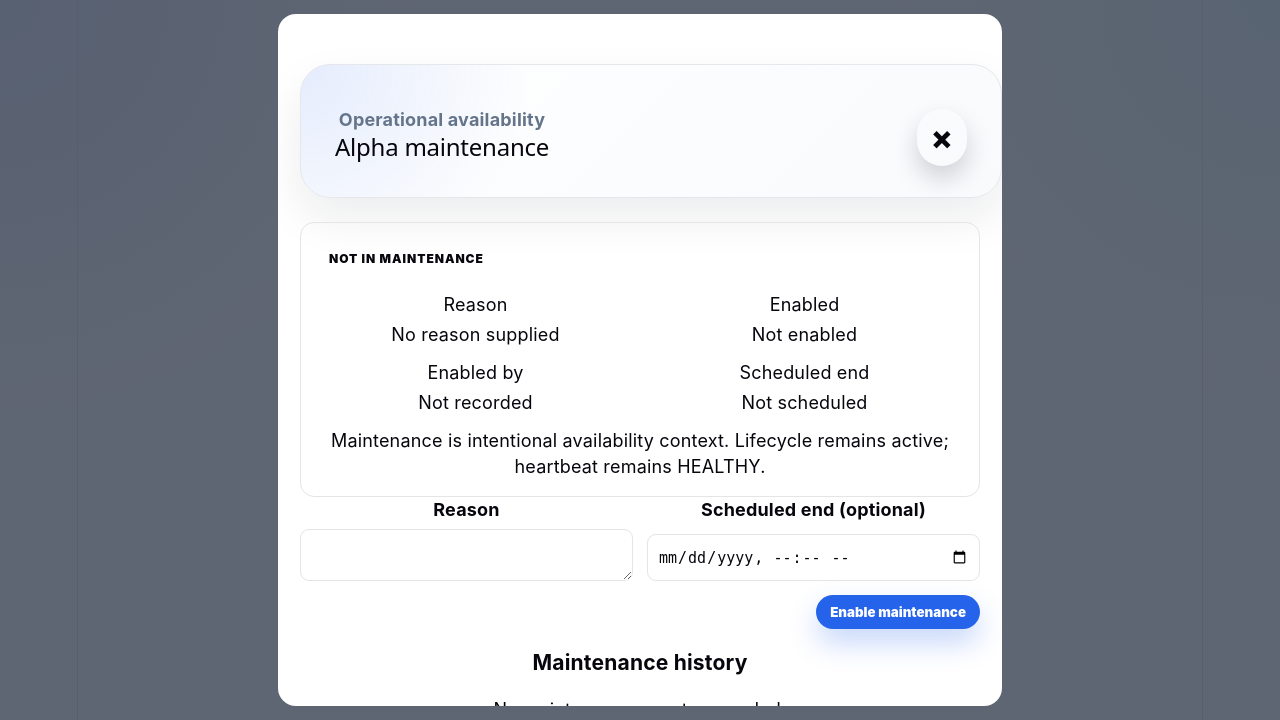
it: DeviceMaintenanceDialog › validates a past scheduled end without making a request
The width and height of the screenshot is (1280, 720).
expect the button "Enable maintenance" is shown: met, box [816,595,980,629]
Type "2020-01-01T10:00" into the field named "Scheduled maintenance end" at (814, 558), box [647,534,980,581]
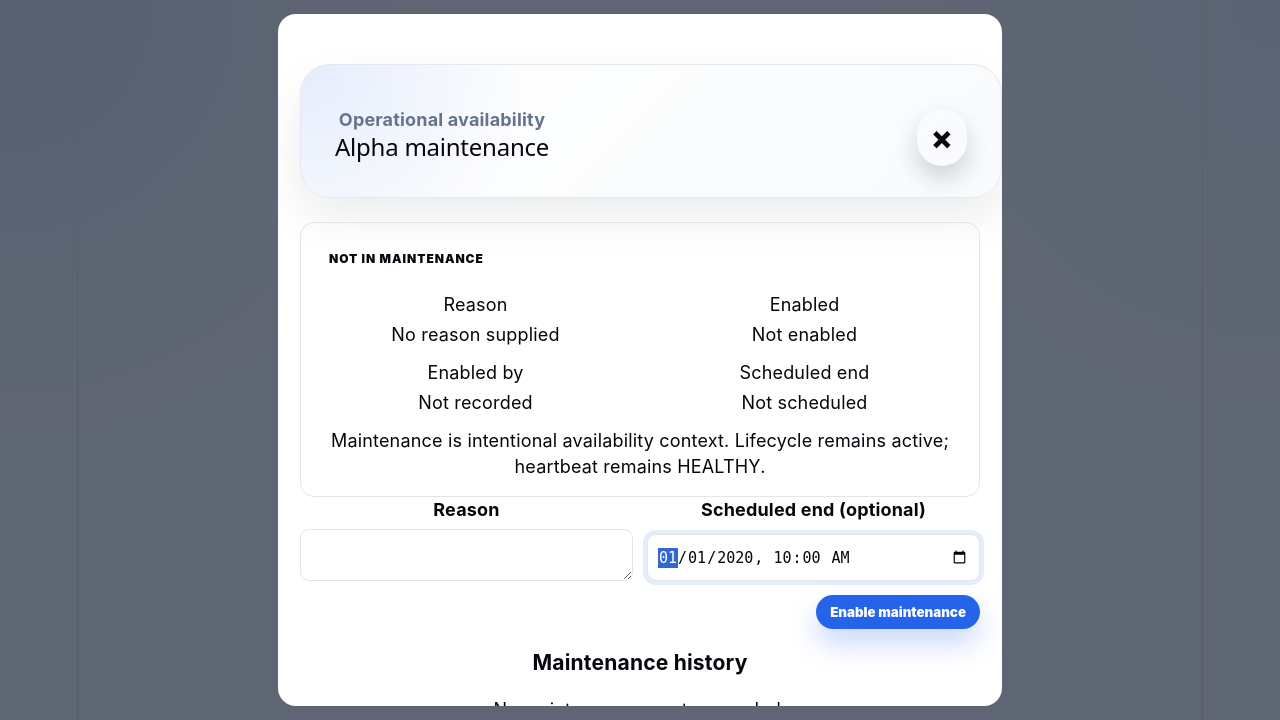
Click the button "Enable maintenance" at (898, 612), box [816,595,980,629]
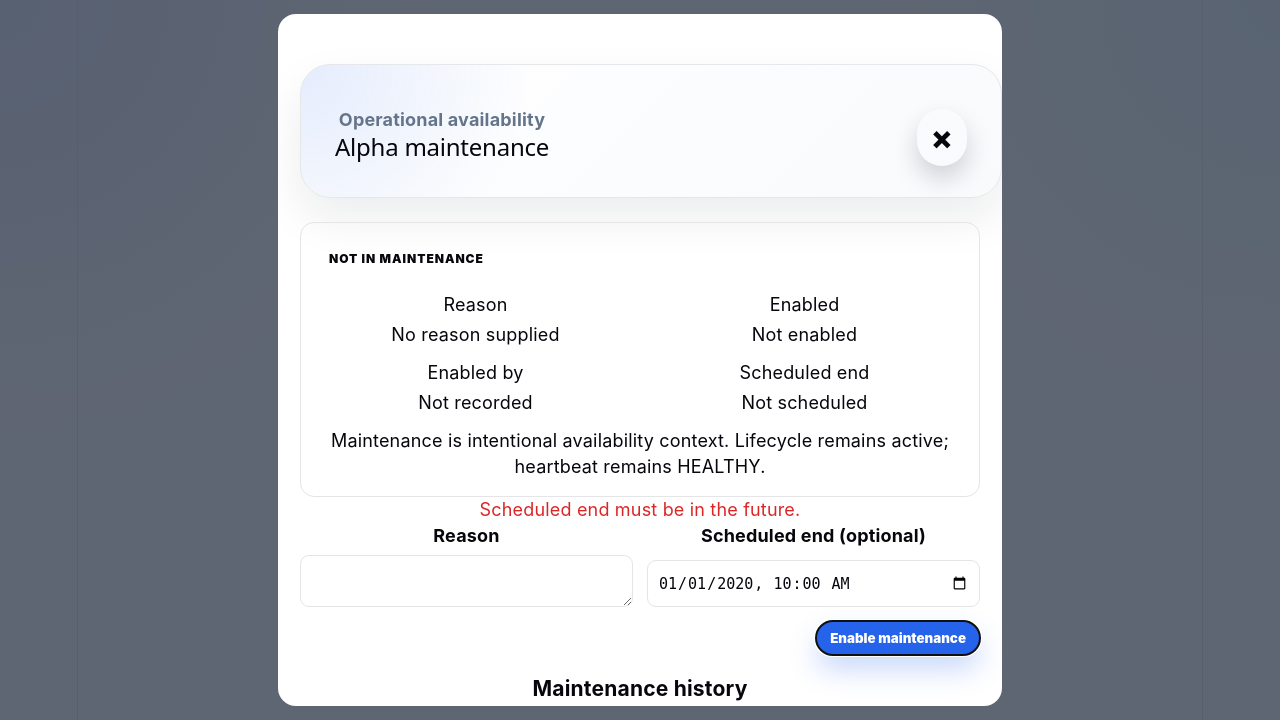
expect the text "Scheduled end must be in the future." is shown: met, box [480,499,800,520]
